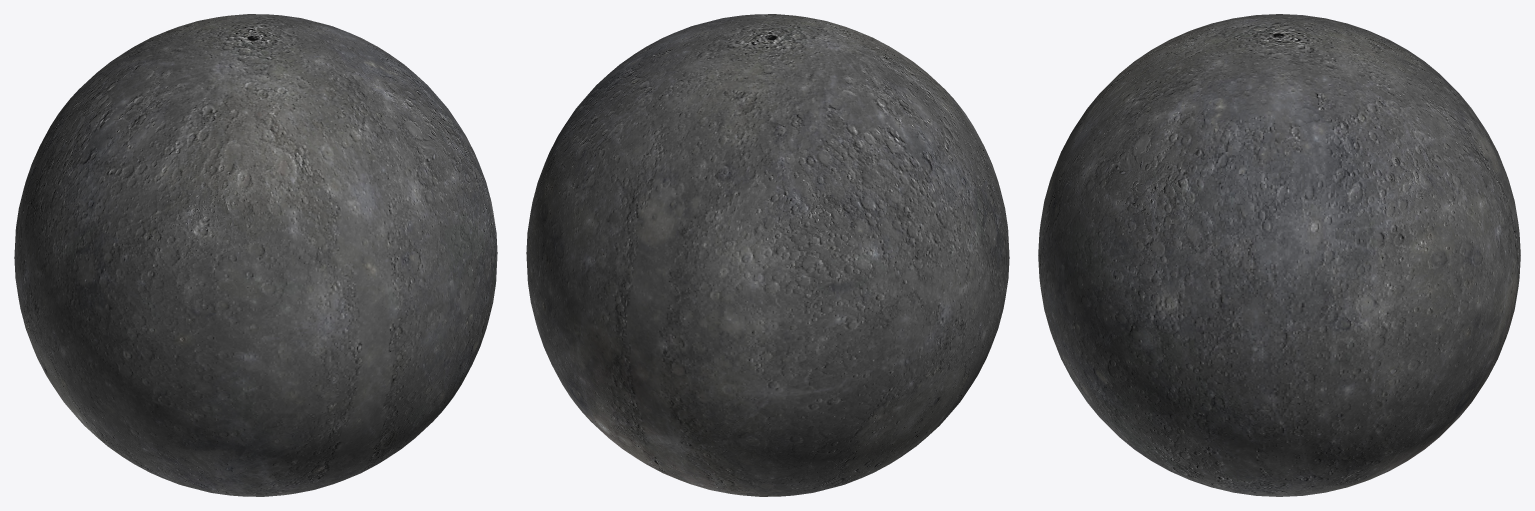
Rendered from Mercury.gltf.
The picture shows the model from 3 angles, left to right: view 1: azimuth 30°, elevation 25°; view 2: azimuth 150°, elevation 25°; view 3: azimuth 270°, elevation 25°; orthographic projection.
Parts seen in each view (by area): view 1: Mercury; view 2: Mercury; view 3: Mercury.
Boxes of the visible parts, x1,y1,x2,y2 form: Mercury: (14,14,497,496); Mercury: (526,14,1009,496); Mercury: (1038,14,1520,496).
Bounding box in the file's own units: 0.383 × 0.383 × 0.383.
Materials: 1 (1 with a texture image).
